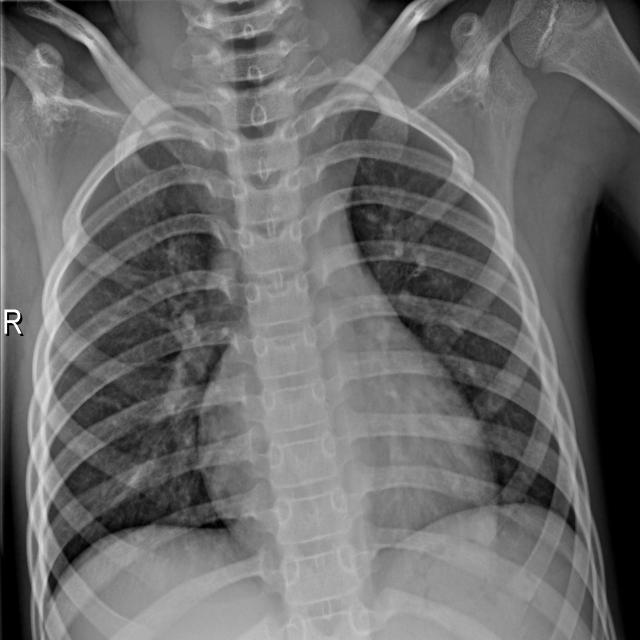no-pneumonia: (349, 124, 604, 576), (28, 138, 244, 603)
